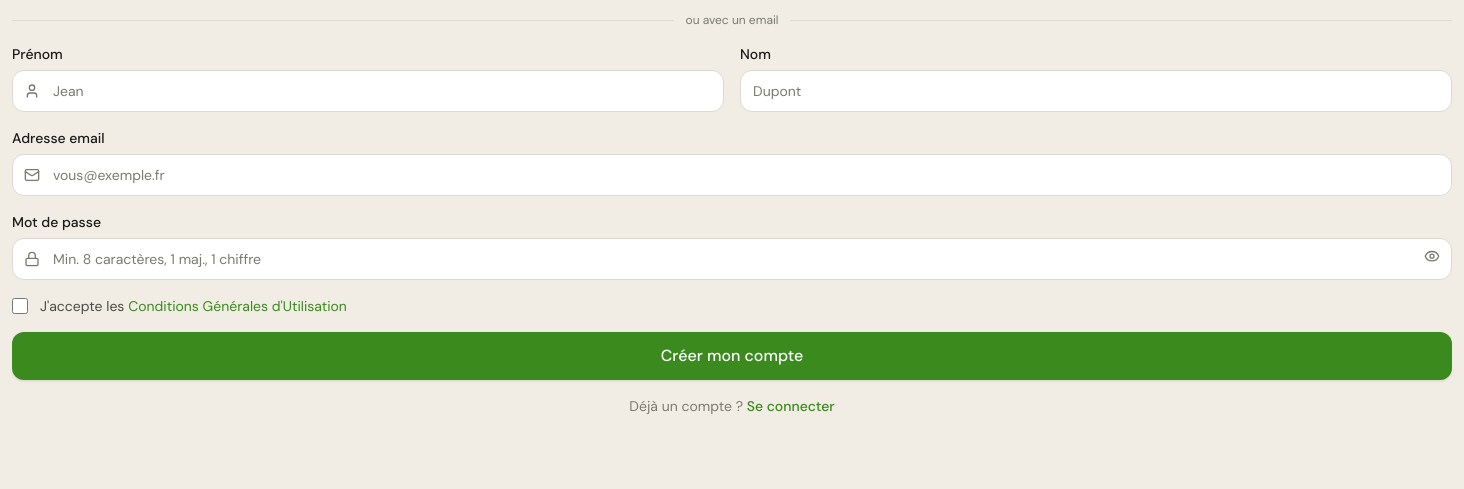
Scenario: RegisterForm — validation › affiche une erreur si l'email est invalide
Type "pas-un-email" into the field labelled "Adresse email" at (732, 175), box [12,154,1452,196]
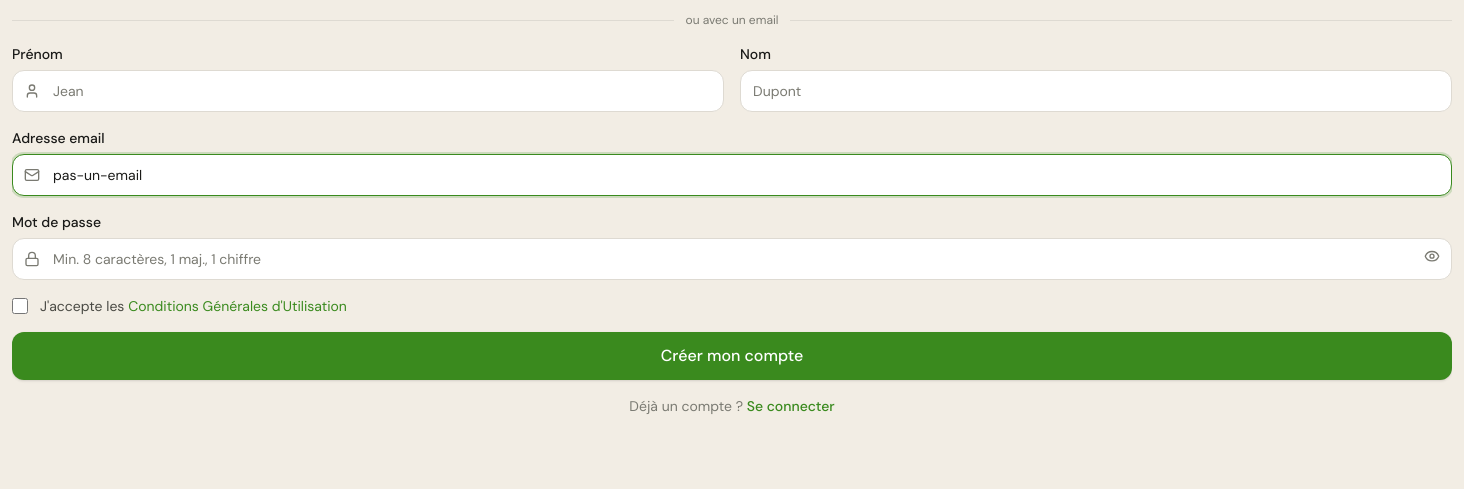
Type "Password1" into the password field labelled "Mot de passe" at (732, 259), box [12,238,1452,280]
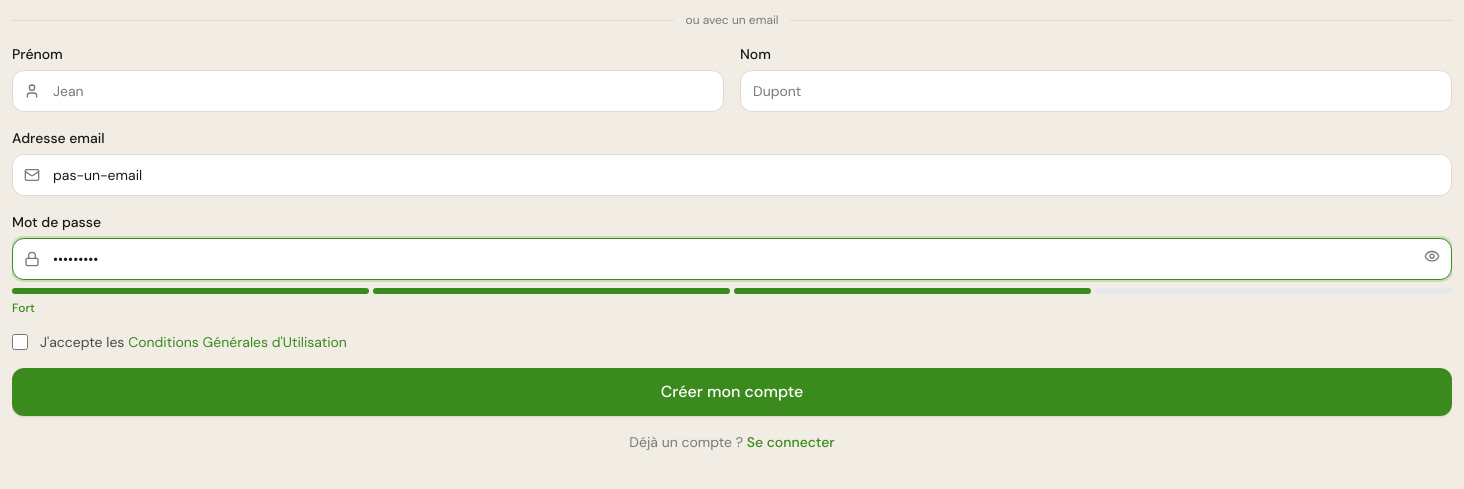
Click the checkbox at (20, 342), box [12,334,28,350]
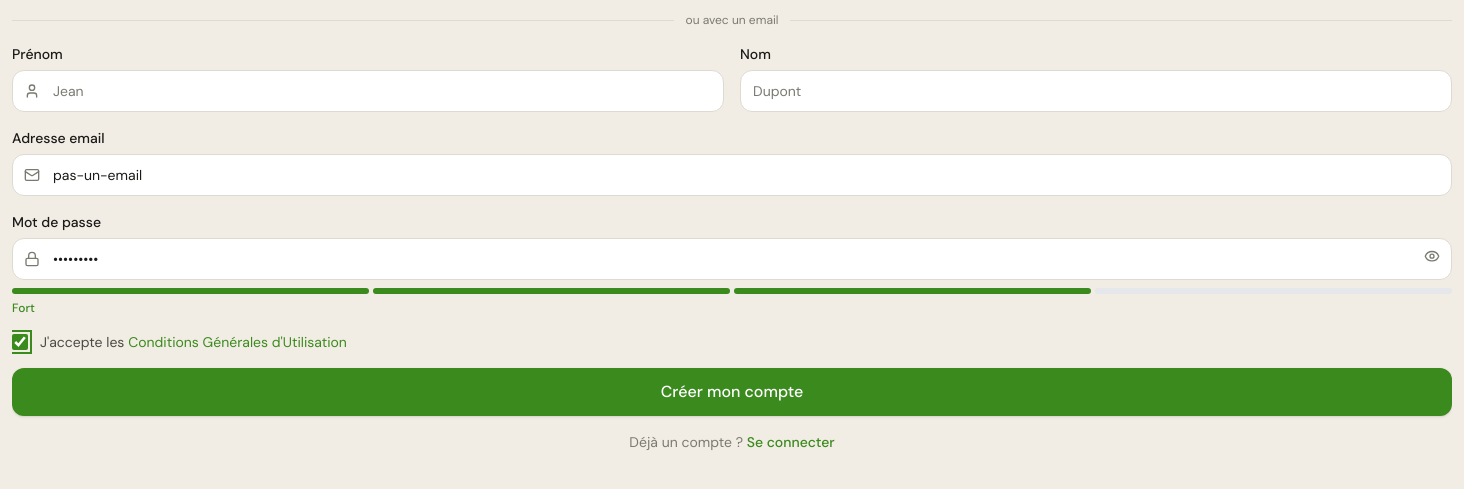
Click the button "Créer mon compte" at (732, 392), box [12,368,1452,416]
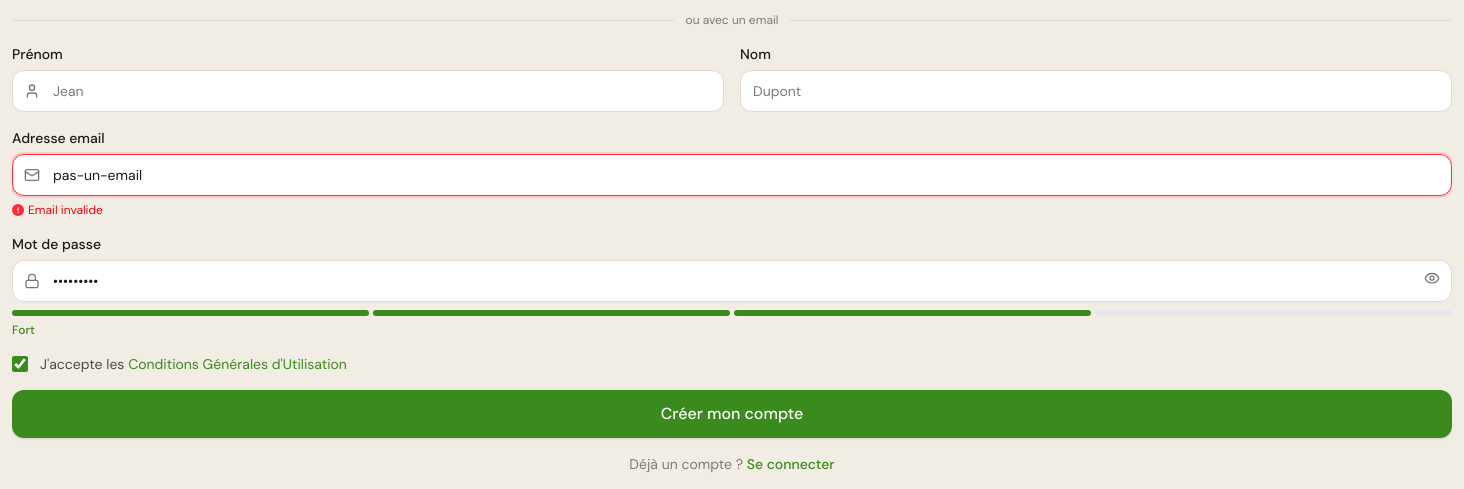
Now the text "Email invalide" is shown, box [28,202,103,218]
